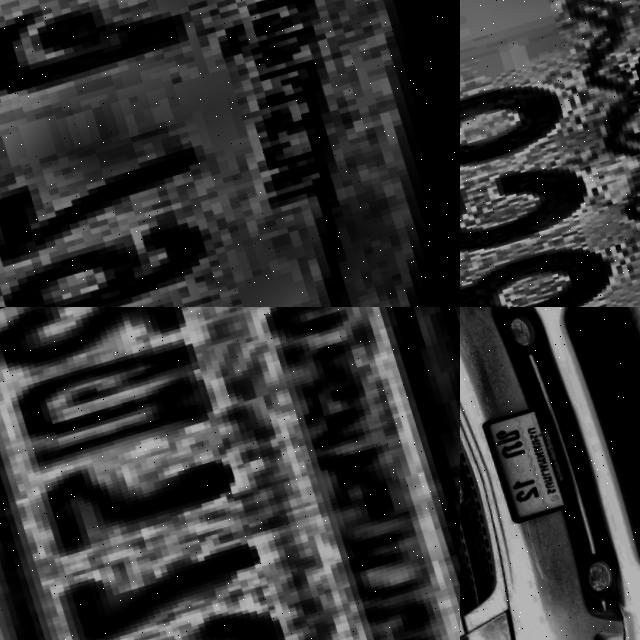license-plate: (0, 307, 460, 640), (0, 0, 460, 307), (460, 0, 640, 307), (467, 404, 575, 543)
